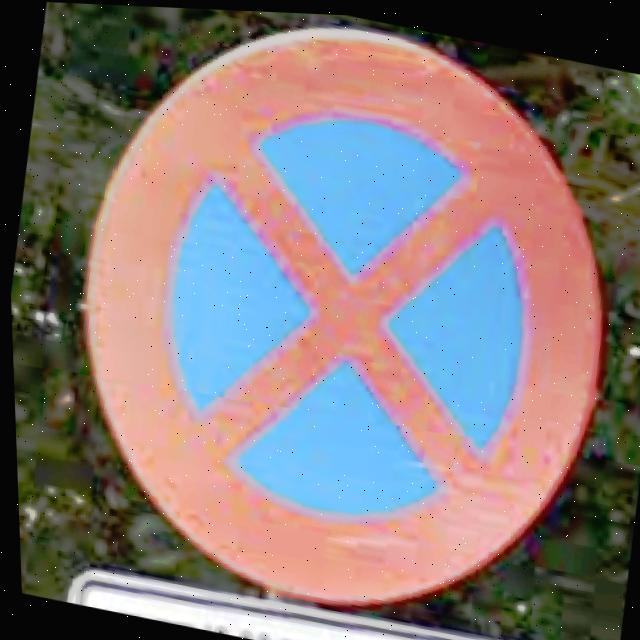nopark: (79, 26, 606, 609)
